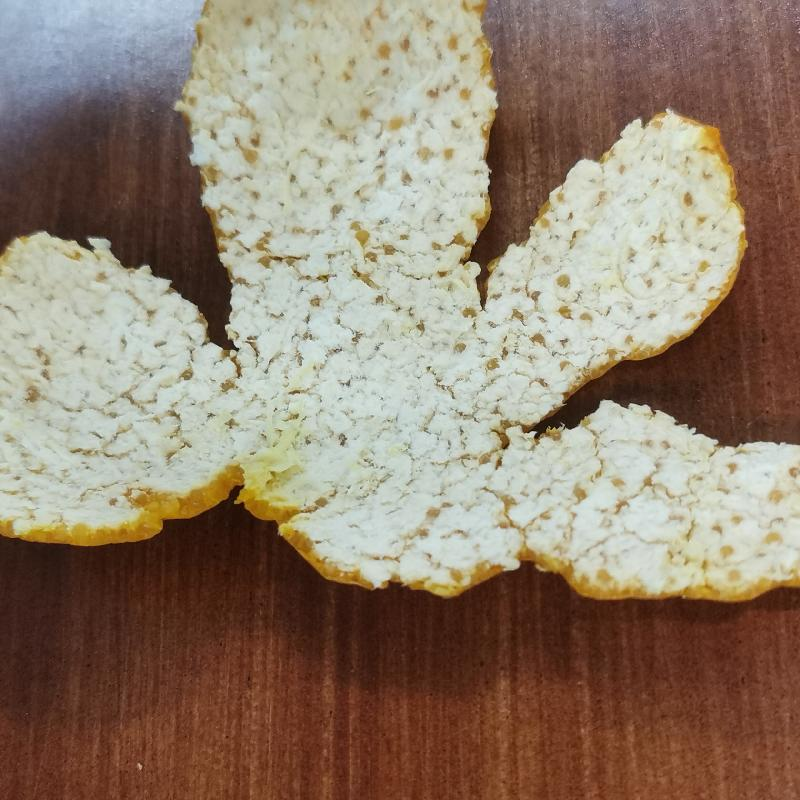orange: (1, 1, 799, 602)
